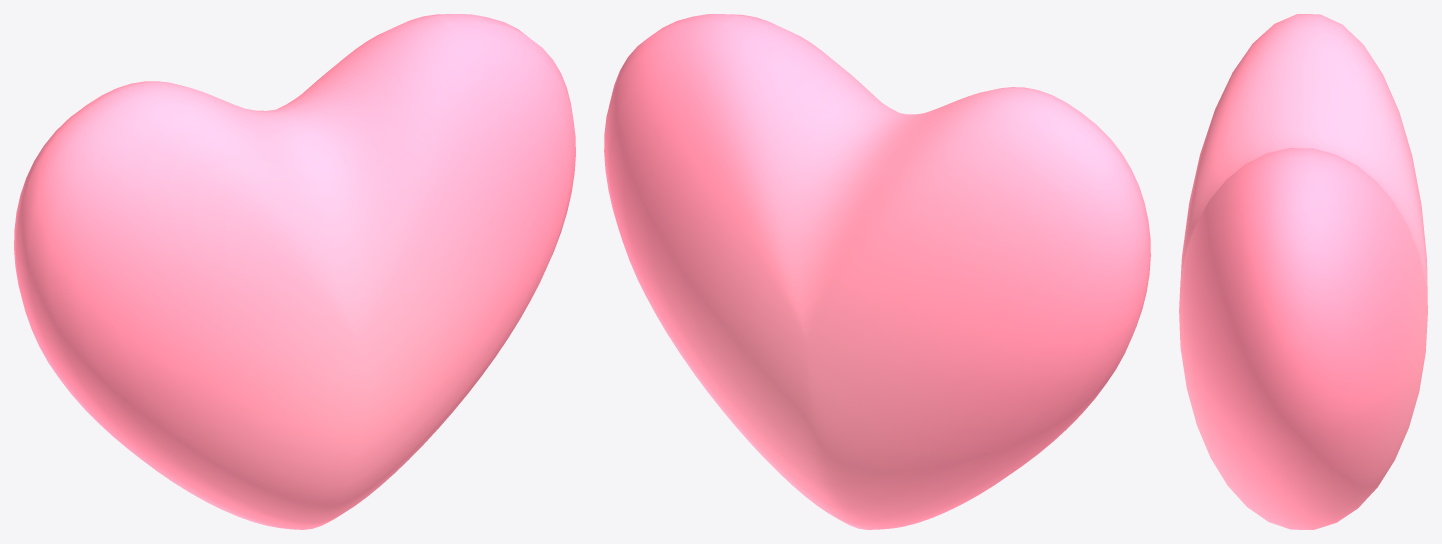
The model's file is heart-warm-pink-v15.glb.
The picture shows the model from 3 angles, left to right: view 1: azimuth 30°, elevation 25°; view 2: azimuth 150°, elevation 25°; view 3: azimuth 270°, elevation 25°; orthographic projection. The views are drawn at different scales.
Visible parts, largest first — view 1: Heart_Glass; view 2: Heart_Glass; view 3: Heart_Glass.
Part boxes in pixels (x1,y1,x2,y2): Heart_Glass: (14,14,575,529); Heart_Glass: (604,14,1150,529); Heart_Glass: (1179,14,1427,529).
Size of the model in its own units: 0.0801 by 0.0665 by 0.0347.
1 material, 1 textured.
